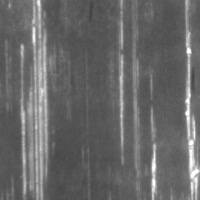scratches: (17, 2, 51, 199), (182, 1, 199, 199), (113, 1, 129, 166), (147, 77, 161, 200)
